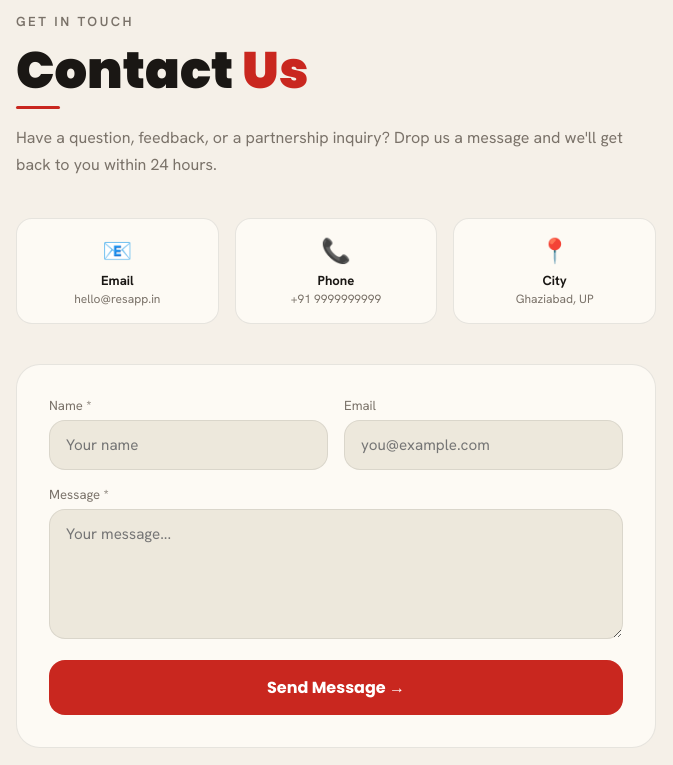
Scenario: Contact Us Page › should show success message after submitting valid form
In the field with placeholder "Your name": {"x": 188, "y": 445} [49, 420, 328, 470], type "Test User"
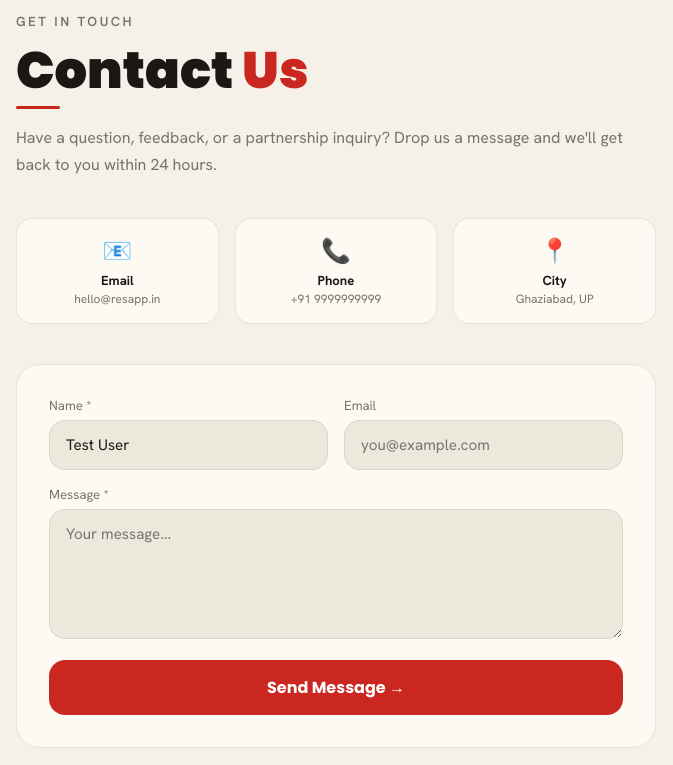
In the text box with placeholder "Your message...": {"x": 336, "y": 574} [49, 509, 623, 639], type "Hello there!"
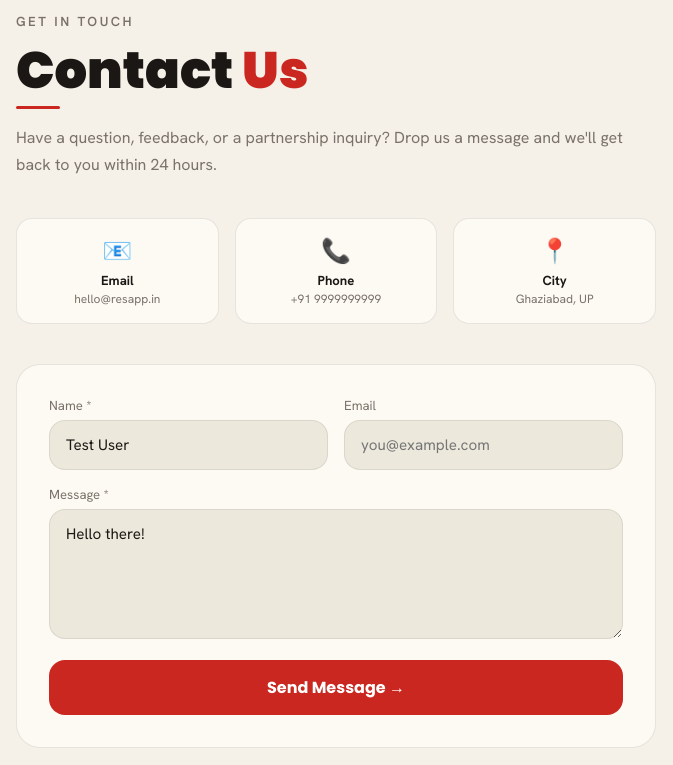
Click the button "Send Message →": {"x": 336, "y": 688} [49, 660, 623, 715]
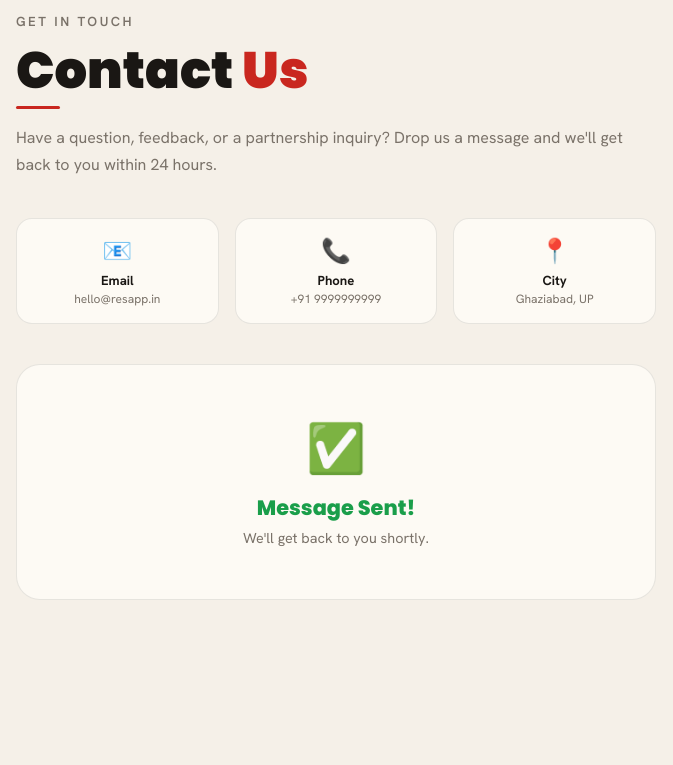
Expected: the text "Message Sent!" is shown, [257, 493, 415, 522]
